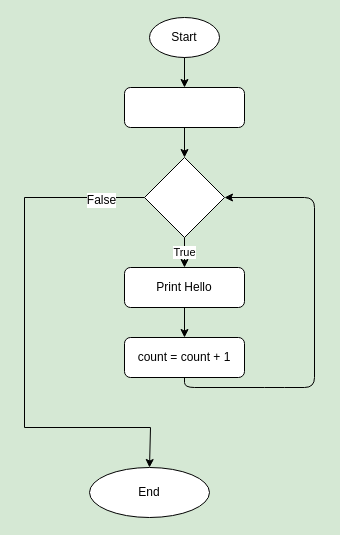
This 340x535 diagram has some shape labels left out. The shapes that lost their labels are listed below. From the top down, each one's centre as x and y in pixels, then its label:
At point (184, 107): "count = 0".
At point (184, 197): "count < 10".
